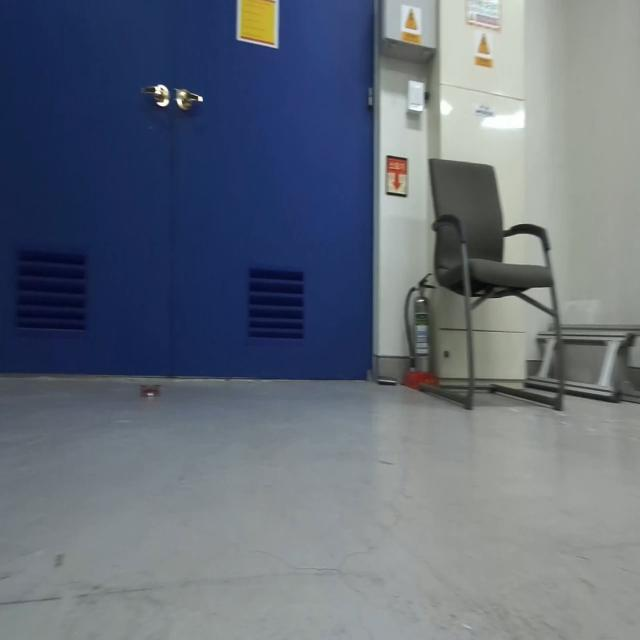crazyflie: (137, 380, 162, 402)
